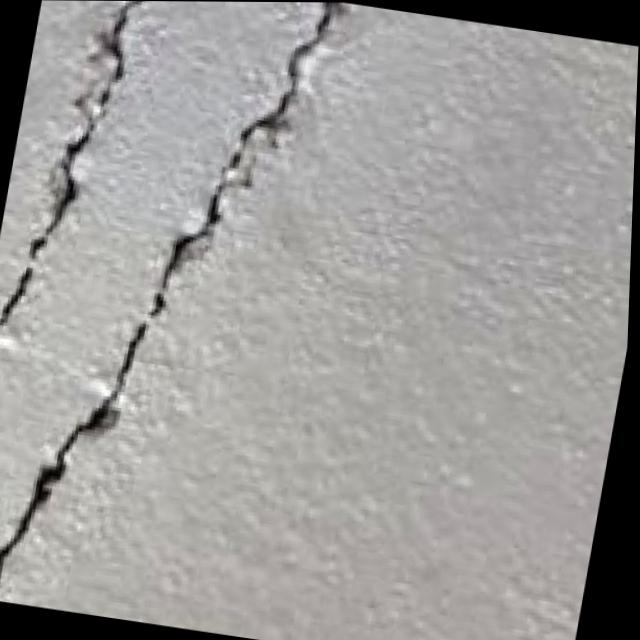Crack: (0, 0, 370, 639)
